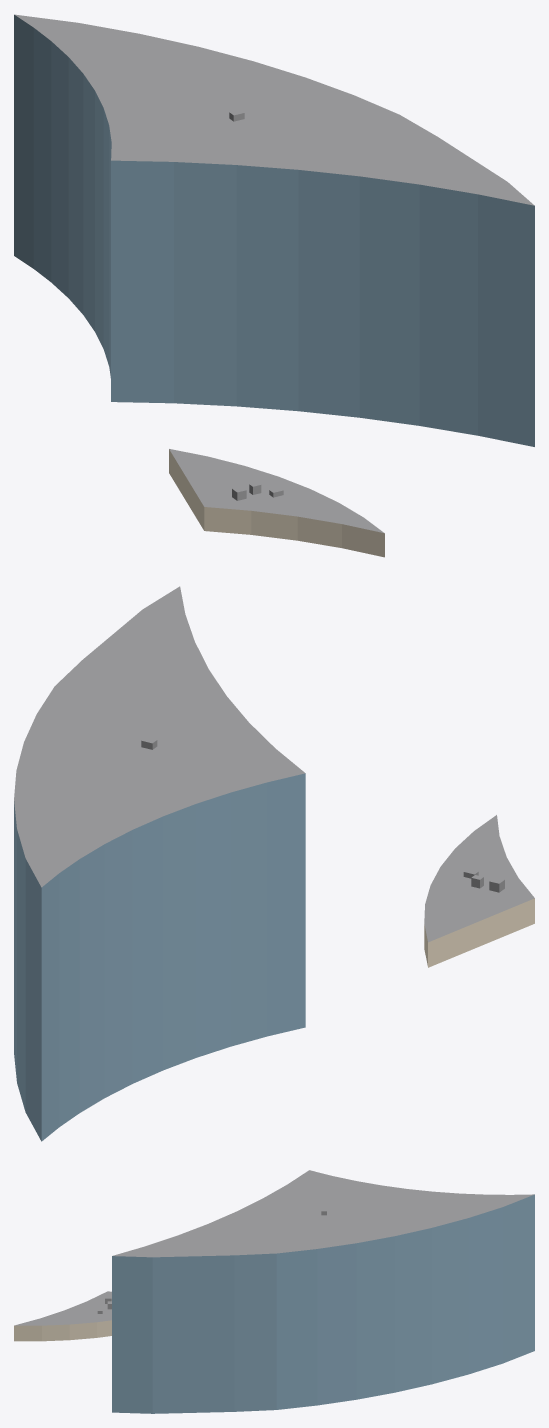
Rendered from building_-1_1.glb.
The picture shows the model from 3 angles, top to bottom: view 1: azimuth 30°, elevation 25°; view 2: azimuth 150°, elevation 25°; view 3: azimuth 270°, elevation 25°; orthographic projection. The views are drawn at different scales.
Visible parts, largest first — view 1: glass_blue, roof, sandstone; view 2: glass_blue, roof, sandstone; view 3: glass_blue, roof, sandstone.
Boxes of the visible parts, <box> form: glass_blue: <box>14,14,534,446</box>; roof: <box>15,14,534,533</box>; sandstone: <box>169,449,384,557</box>; glass_blue: <box>14,773,305,1141</box>; roof: <box>14,586,534,942</box>; sandstone: <box>424,898,534,967</box>; glass_blue: <box>112,1194,534,1413</box>; roof: <box>14,1170,534,1325</box>; sandstone: <box>14,1320,111,1341</box>.
Size of the model in its own units: 73.27 by 51.29 by 151.
